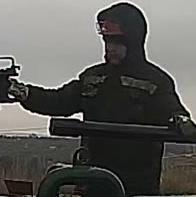gloves: (7, 77, 29, 102), (167, 109, 191, 127)
helmet: (95, 17, 124, 37)
vest: (70, 60, 167, 164)
